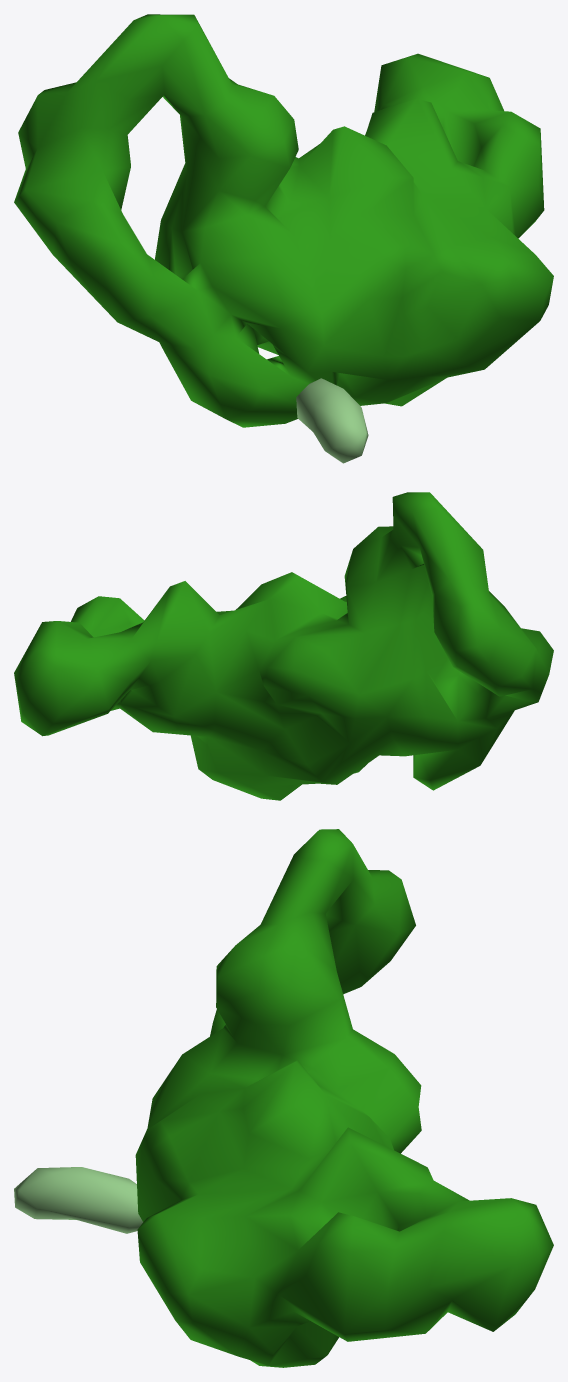
File: HIV1_NEF_Hyb_0_2_1.dae
3 renders of one model, top to bottom at view 1: azimuth 30°, elevation 25°; view 2: azimuth 150°, elevation 25°; view 3: azimuth 270°, elevation 25°, orthographic. The views are drawn at different scales.
Visible parts, largest first — view 1: CoarseMS_nefStef_1_prot, CoarseMS_nefStef_1_myr; view 2: CoarseMS_nefStef_1_prot; view 3: CoarseMS_nefStef_1_prot, CoarseMS_nefStef_1_myr.
Part boxes in pixels (x1=…): CoarseMS_nefStef_1_prot: x1=14, y1=14, x2=553, y2=427; CoarseMS_nefStef_1_myr: x1=296, y1=378, x2=368, y2=463; CoarseMS_nefStef_1_prot: x1=14, y1=492, x2=553, y2=800; CoarseMS_nefStef_1_prot: x1=135, y1=829, x2=553, y2=1367; CoarseMS_nefStef_1_myr: x1=14, y1=1167, x2=142, y2=1233.
Size of the model in its own units: 77.38 by 58.45 by 66.28.
